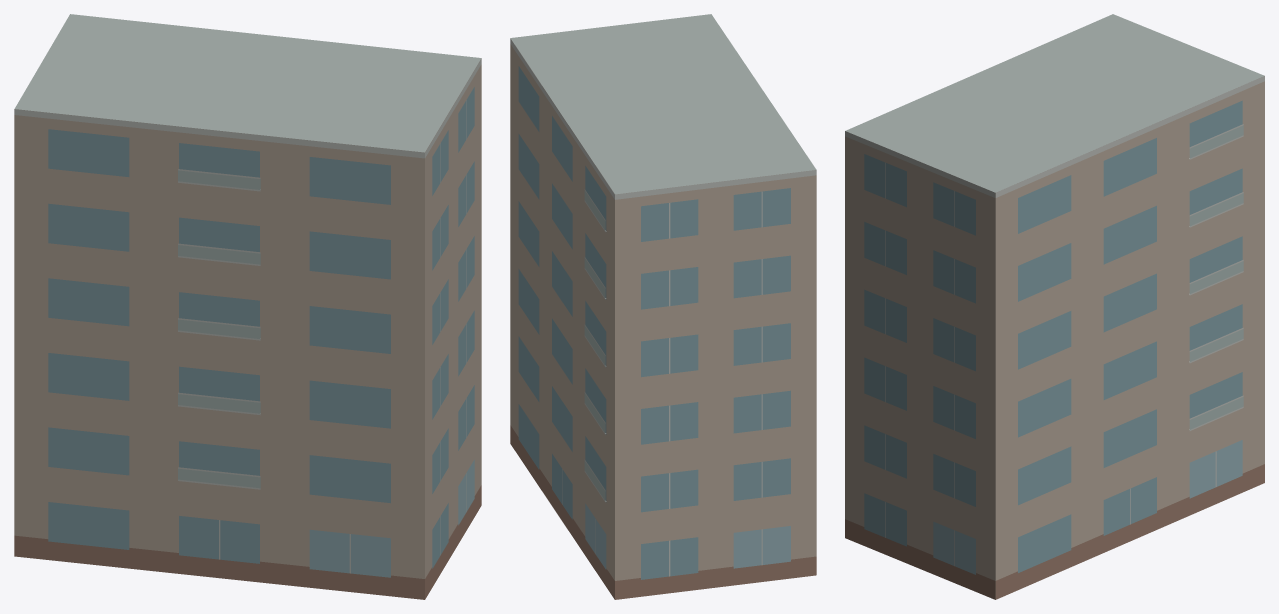
Rendered from survey-upis-32956258.glb.
3 views of the same model, side by side, from view 1: azimuth 30°, elevation 25°; view 2: azimuth 150°, elevation 25°; view 3: azimuth 270°, elevation 25° (orthographic). The views are drawn at different scales.
Parts seen in each view (by area): view 1: survey-upis-32956258.tmp; view 2: survey-upis-32956258.tmp; view 3: survey-upis-32956258.tmp.
Part boxes in pixels (<box>): survey-upis-32956258.tmp: <box>14,14,481,599</box>; survey-upis-32956258.tmp: <box>510,14,816,599</box>; survey-upis-32956258.tmp: <box>845,14,1264,599</box>.
Bounding box in the file's own units: 17.24 × 18.3 × 17.11.
